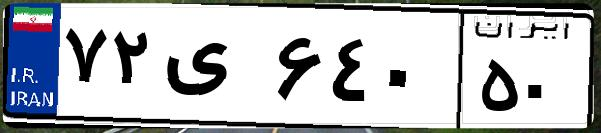0: (385, 28, 445, 110), (525, 38, 570, 115)
2: (110, 28, 158, 98)
4: (330, 28, 385, 110)
5: (475, 38, 525, 113)
6: (270, 28, 330, 110)
7: (57, 26, 110, 100)
ی: (158, 20, 270, 120)
